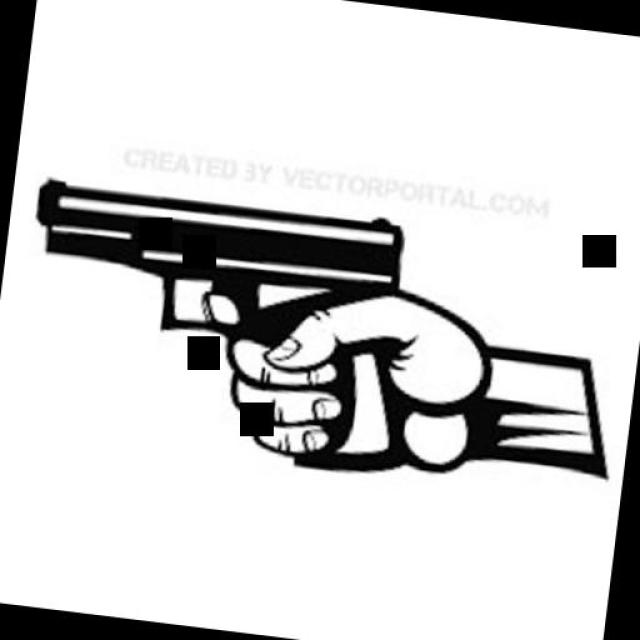gun: (1, 168, 424, 494)
